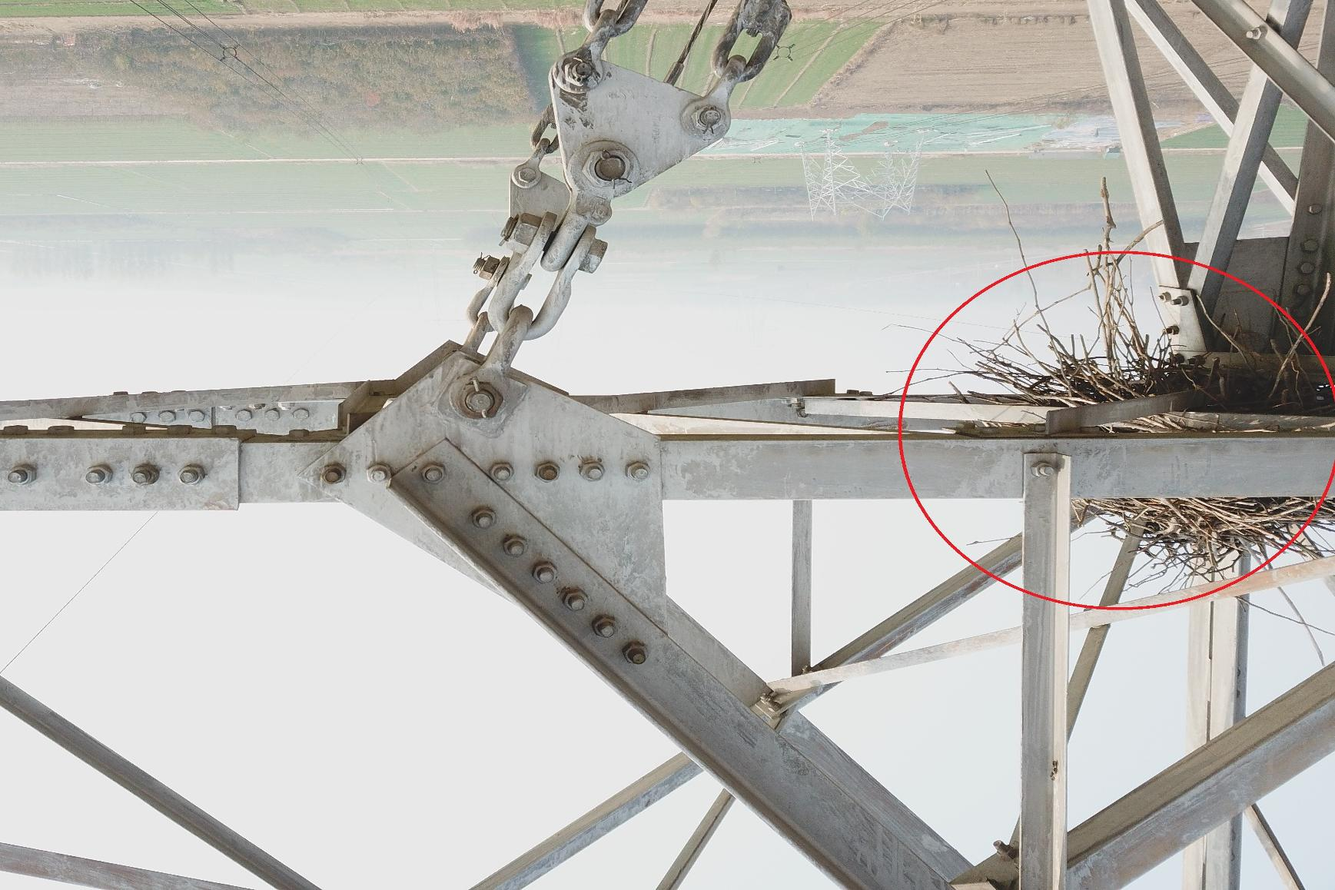nest: (965, 219, 1335, 593)
